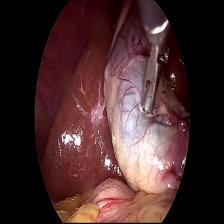Grasper: (135, 26, 182, 116)
